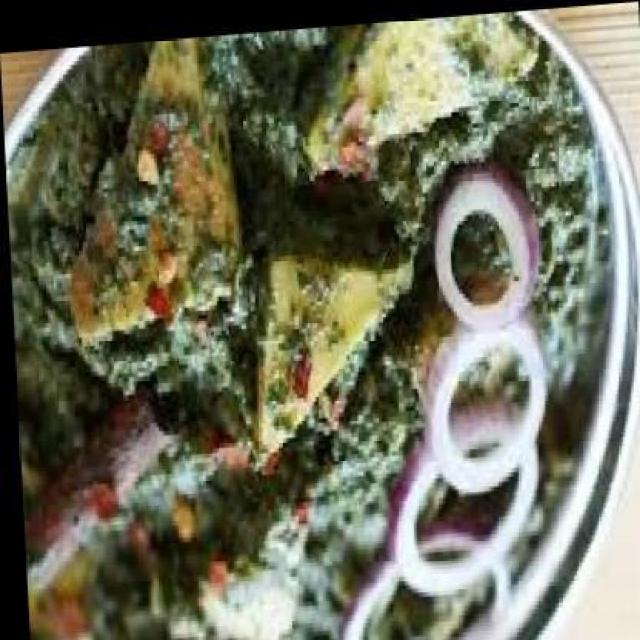palak_paneer: (0, 3, 613, 640)
